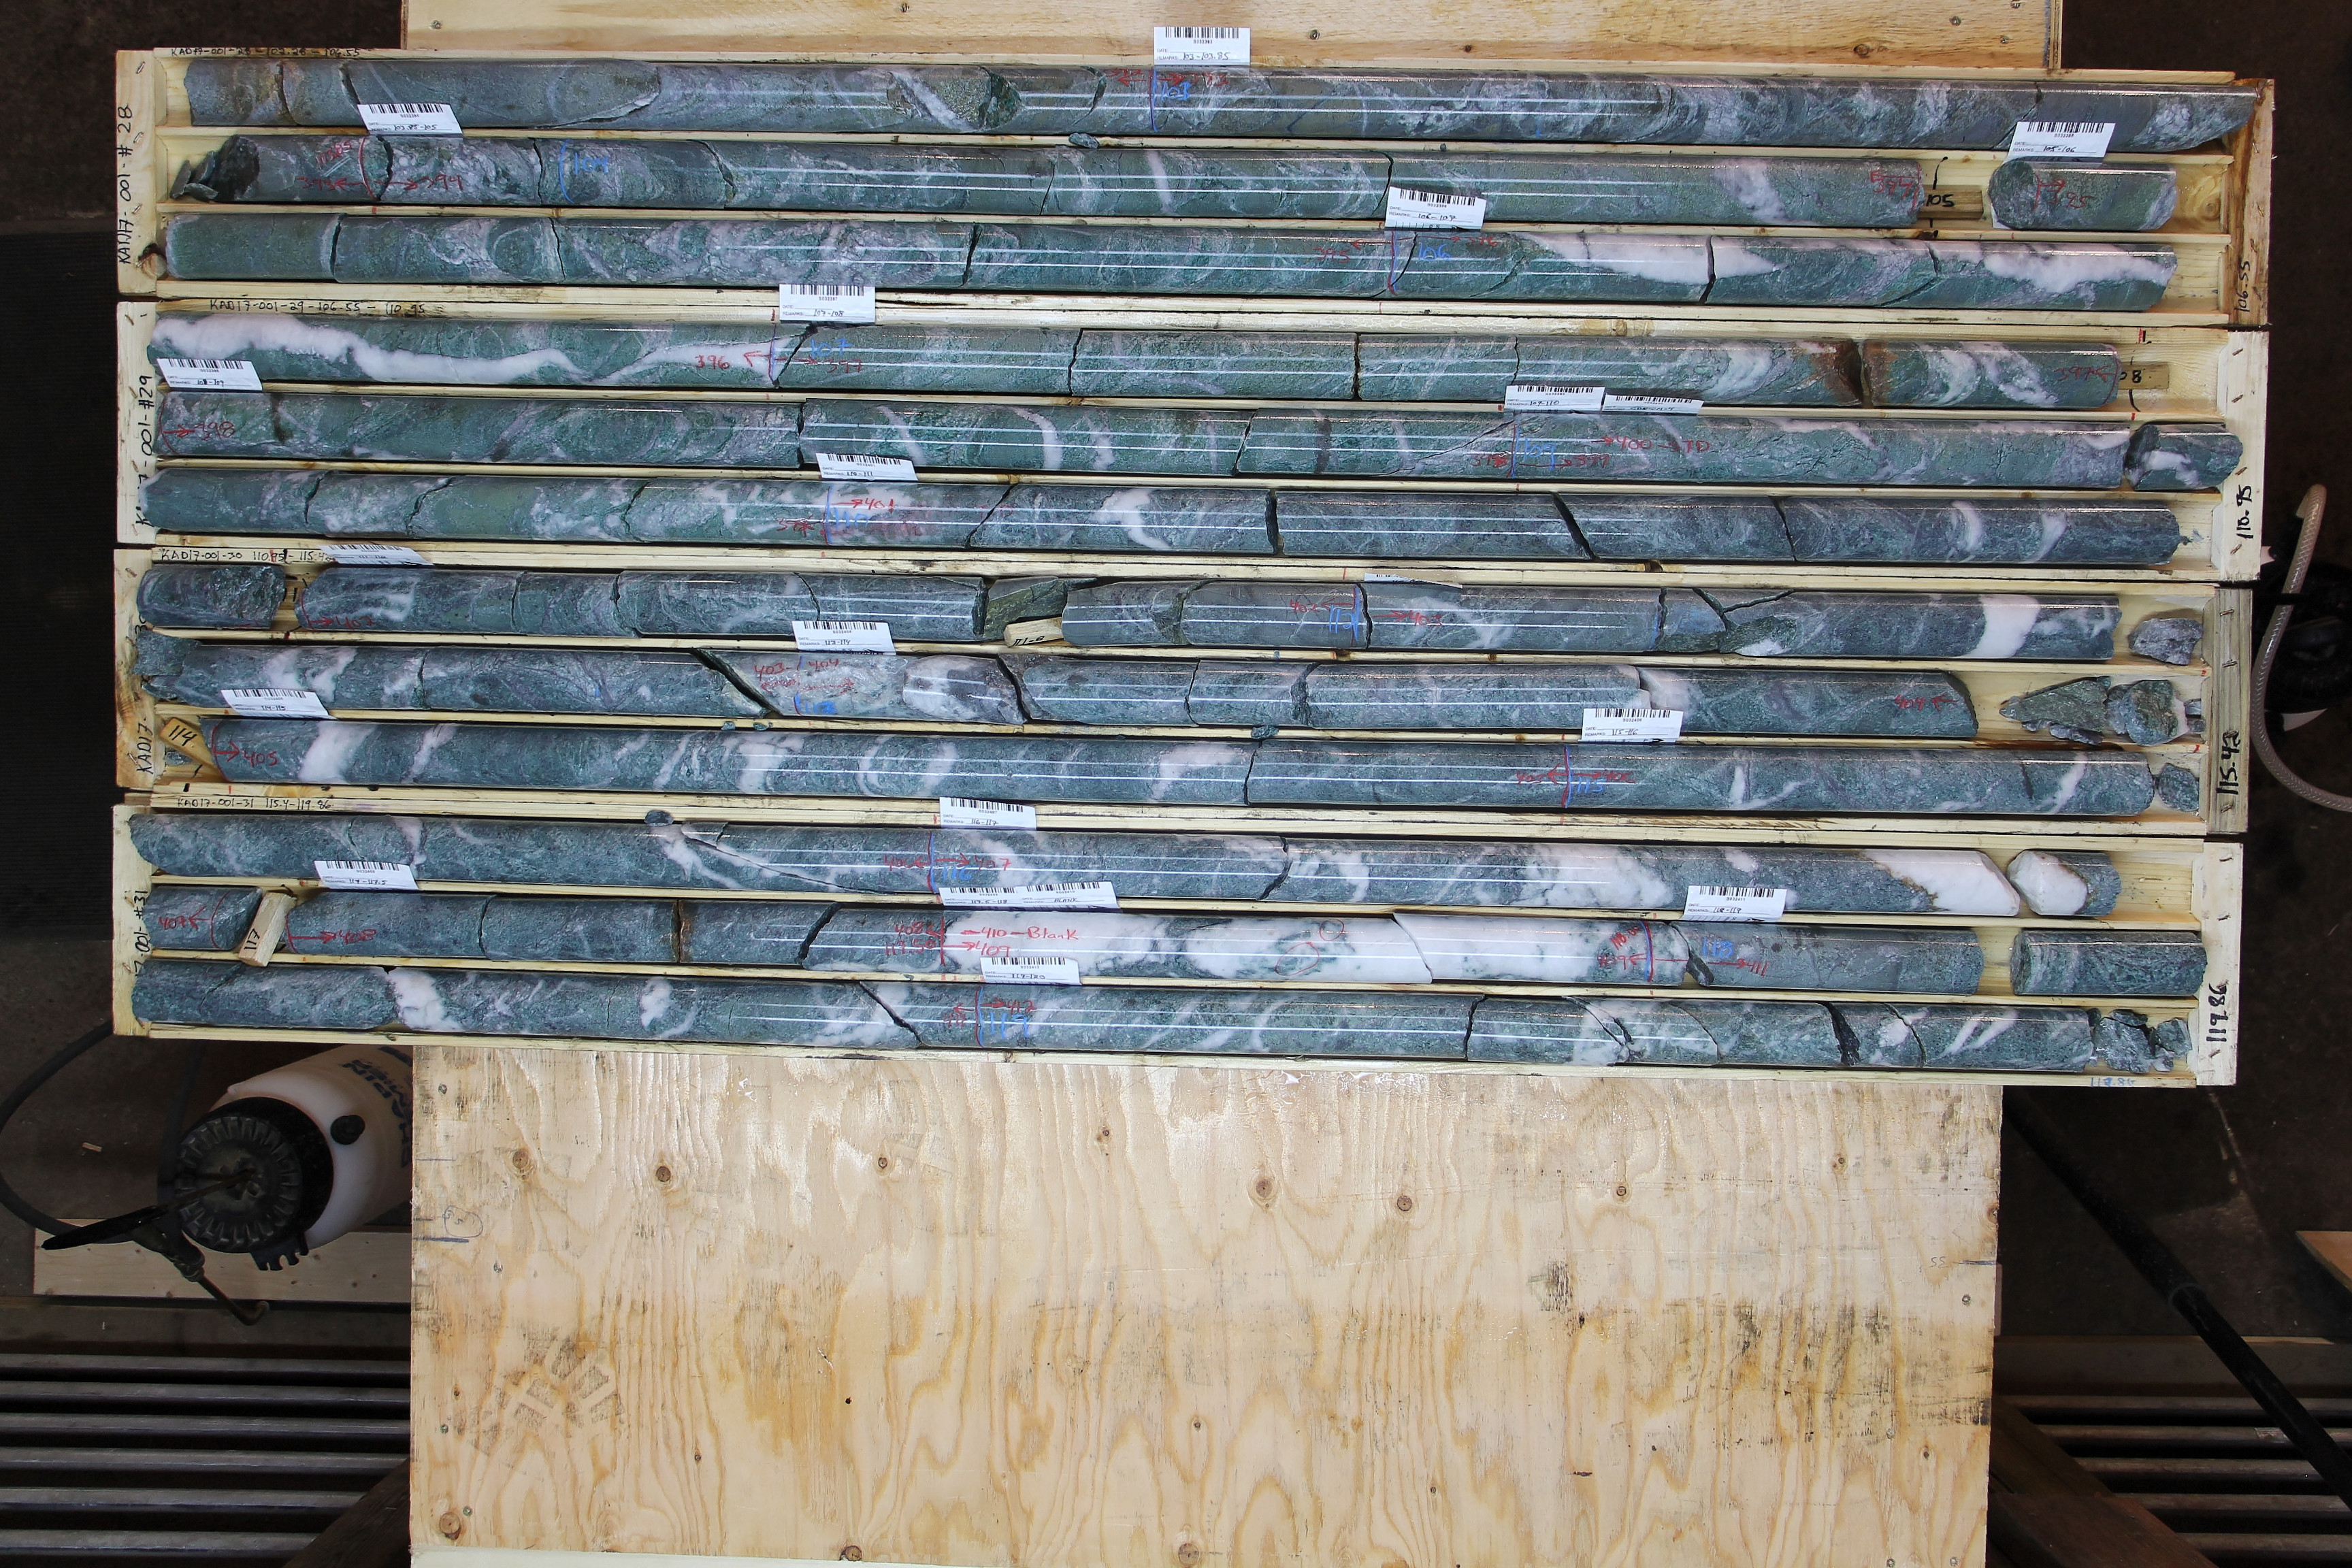rock-KAD17_001-102.28-103: (191, 63, 1153, 132)
rock-KAD17_001-103-103x: (1161, 68, 2232, 152)
rock-KAD17_001-103x-104: (210, 138, 561, 203)
rock-KAD17_001-104-105: (561, 141, 1920, 228)
rock-KAD17_001-105-105x: (2000, 162, 2169, 229)
rock-KAD17_001-105x-106: (171, 216, 1393, 297)
rock-KAD17_001-106-106x: (1397, 235, 2162, 310)
rock-KAD17_001-106x-107: (161, 319, 770, 387)
rock-KAD17_001-107-108: (772, 329, 2116, 407)
rock-KAD17_001-108-109: (159, 393, 1512, 475)
rock-KAD17_001-109-109x: (1517, 414, 2217, 488)
rock-KAD17_001-109x-110: (157, 471, 830, 541)
rock-KAD17_001-110-110x: (829, 485, 2173, 566)
rock-KAD17_001-110x-111: (150, 566, 276, 627)
rock-KAD17_001-111-112: (307, 568, 1356, 645)
rock-KAD17_001-112-112x: (1354, 585, 2116, 658)
rock-KAD17_001-112x-113: (148, 642, 796, 713)
rock-KAD17_001-113-114: (797, 657, 1976, 736)
rock-KAD17_001-114-115: (219, 722, 1567, 809)
rock-KAD17_001-115-115x: (1570, 748, 2153, 819)
rock-KAD17_001-115x-116: (152, 815, 936, 888)
rock-KAD17_001-116-116x: (938, 832, 2112, 915)
rock-KAD17_001-116x-117: (152, 885, 240, 950)
rock-KAD17_001-117-118: (295, 895, 1649, 981)
rock-KAD17_001-118-118x: (1654, 924, 2199, 995)
rock-KAD17_001-118x-119: (144, 963, 975, 1044)
rock-KAD17_001-119-119.86: (980, 987, 2105, 1073)
